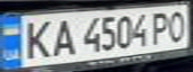0: (115, 11, 136, 50)
4: (78, 14, 103, 53), (130, 10, 151, 47)
5: (100, 14, 118, 52)
A: (48, 16, 78, 57)
K: (18, 17, 54, 61)
O: (163, 7, 190, 43)
P: (148, 8, 175, 45)
